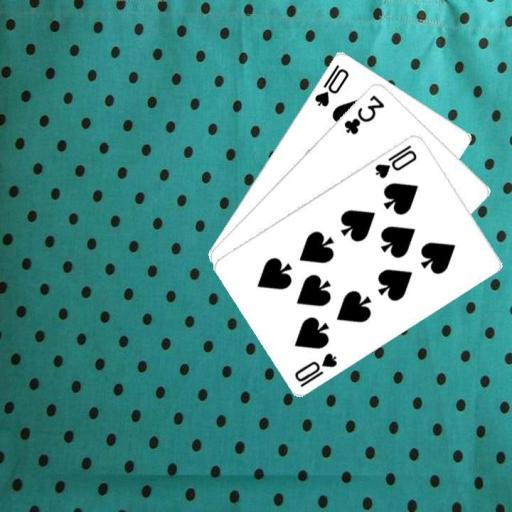10S: (311, 61, 351, 108), (371, 141, 419, 180), (291, 349, 339, 388)
3C: (341, 91, 386, 136)
